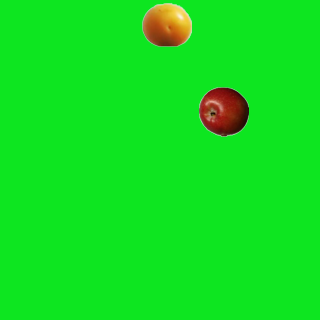Apple Braeburn: (198, 86, 248, 136)
Cherry Wax Yellow: (141, 0, 191, 49)
